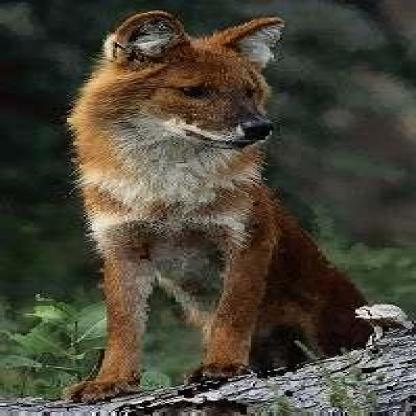dhole: (63, 7, 372, 399)
